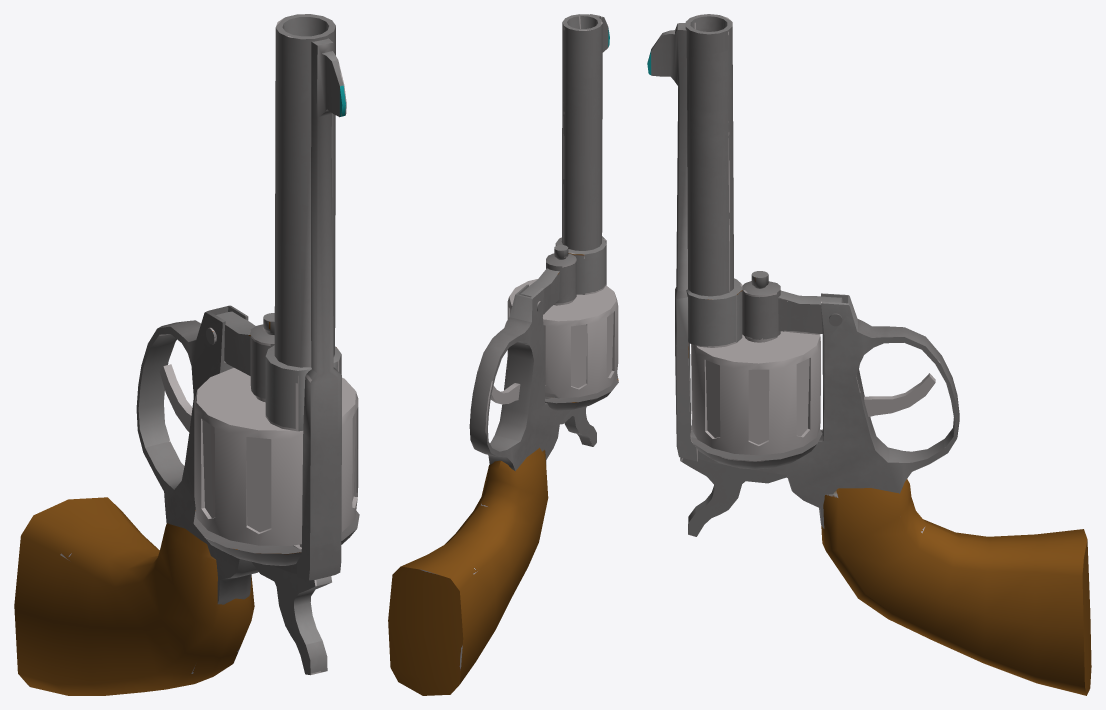
Rendered from 6Shooter.fbx.
The picture shows the model from 3 angles, left to right: view 1: azimuth 30°, elevation 25°; view 2: azimuth 150°, elevation 25°; view 3: azimuth 270°, elevation 25°; orthographic projection. The views are drawn at different scales.
Visible parts, largest first — view 1: gun; view 2: gun; view 3: gun.
Part boxes in pixels (<box>): gun: <box>14,14,359,695</box>; gun: <box>388,14,618,695</box>; gun: <box>647,14,1091,695</box>.
Size of the model in its own units: 436 by 2394 by 1450.
